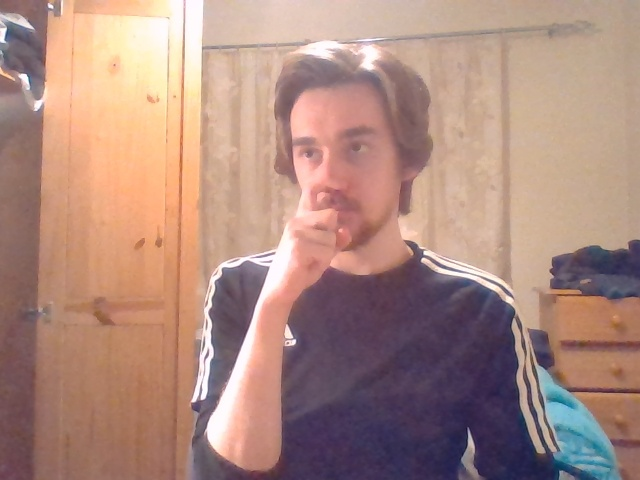sister: (284, 173, 355, 279)
